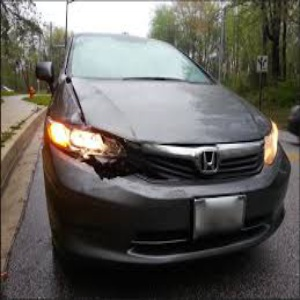head_lights: (44, 119, 133, 181)
